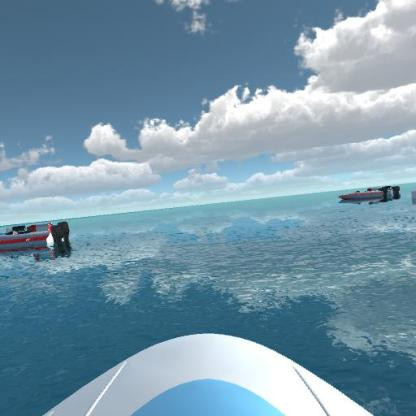usv1: (380, 183, 402, 203)
usv3: (0, 214, 79, 259), (338, 183, 390, 209)
